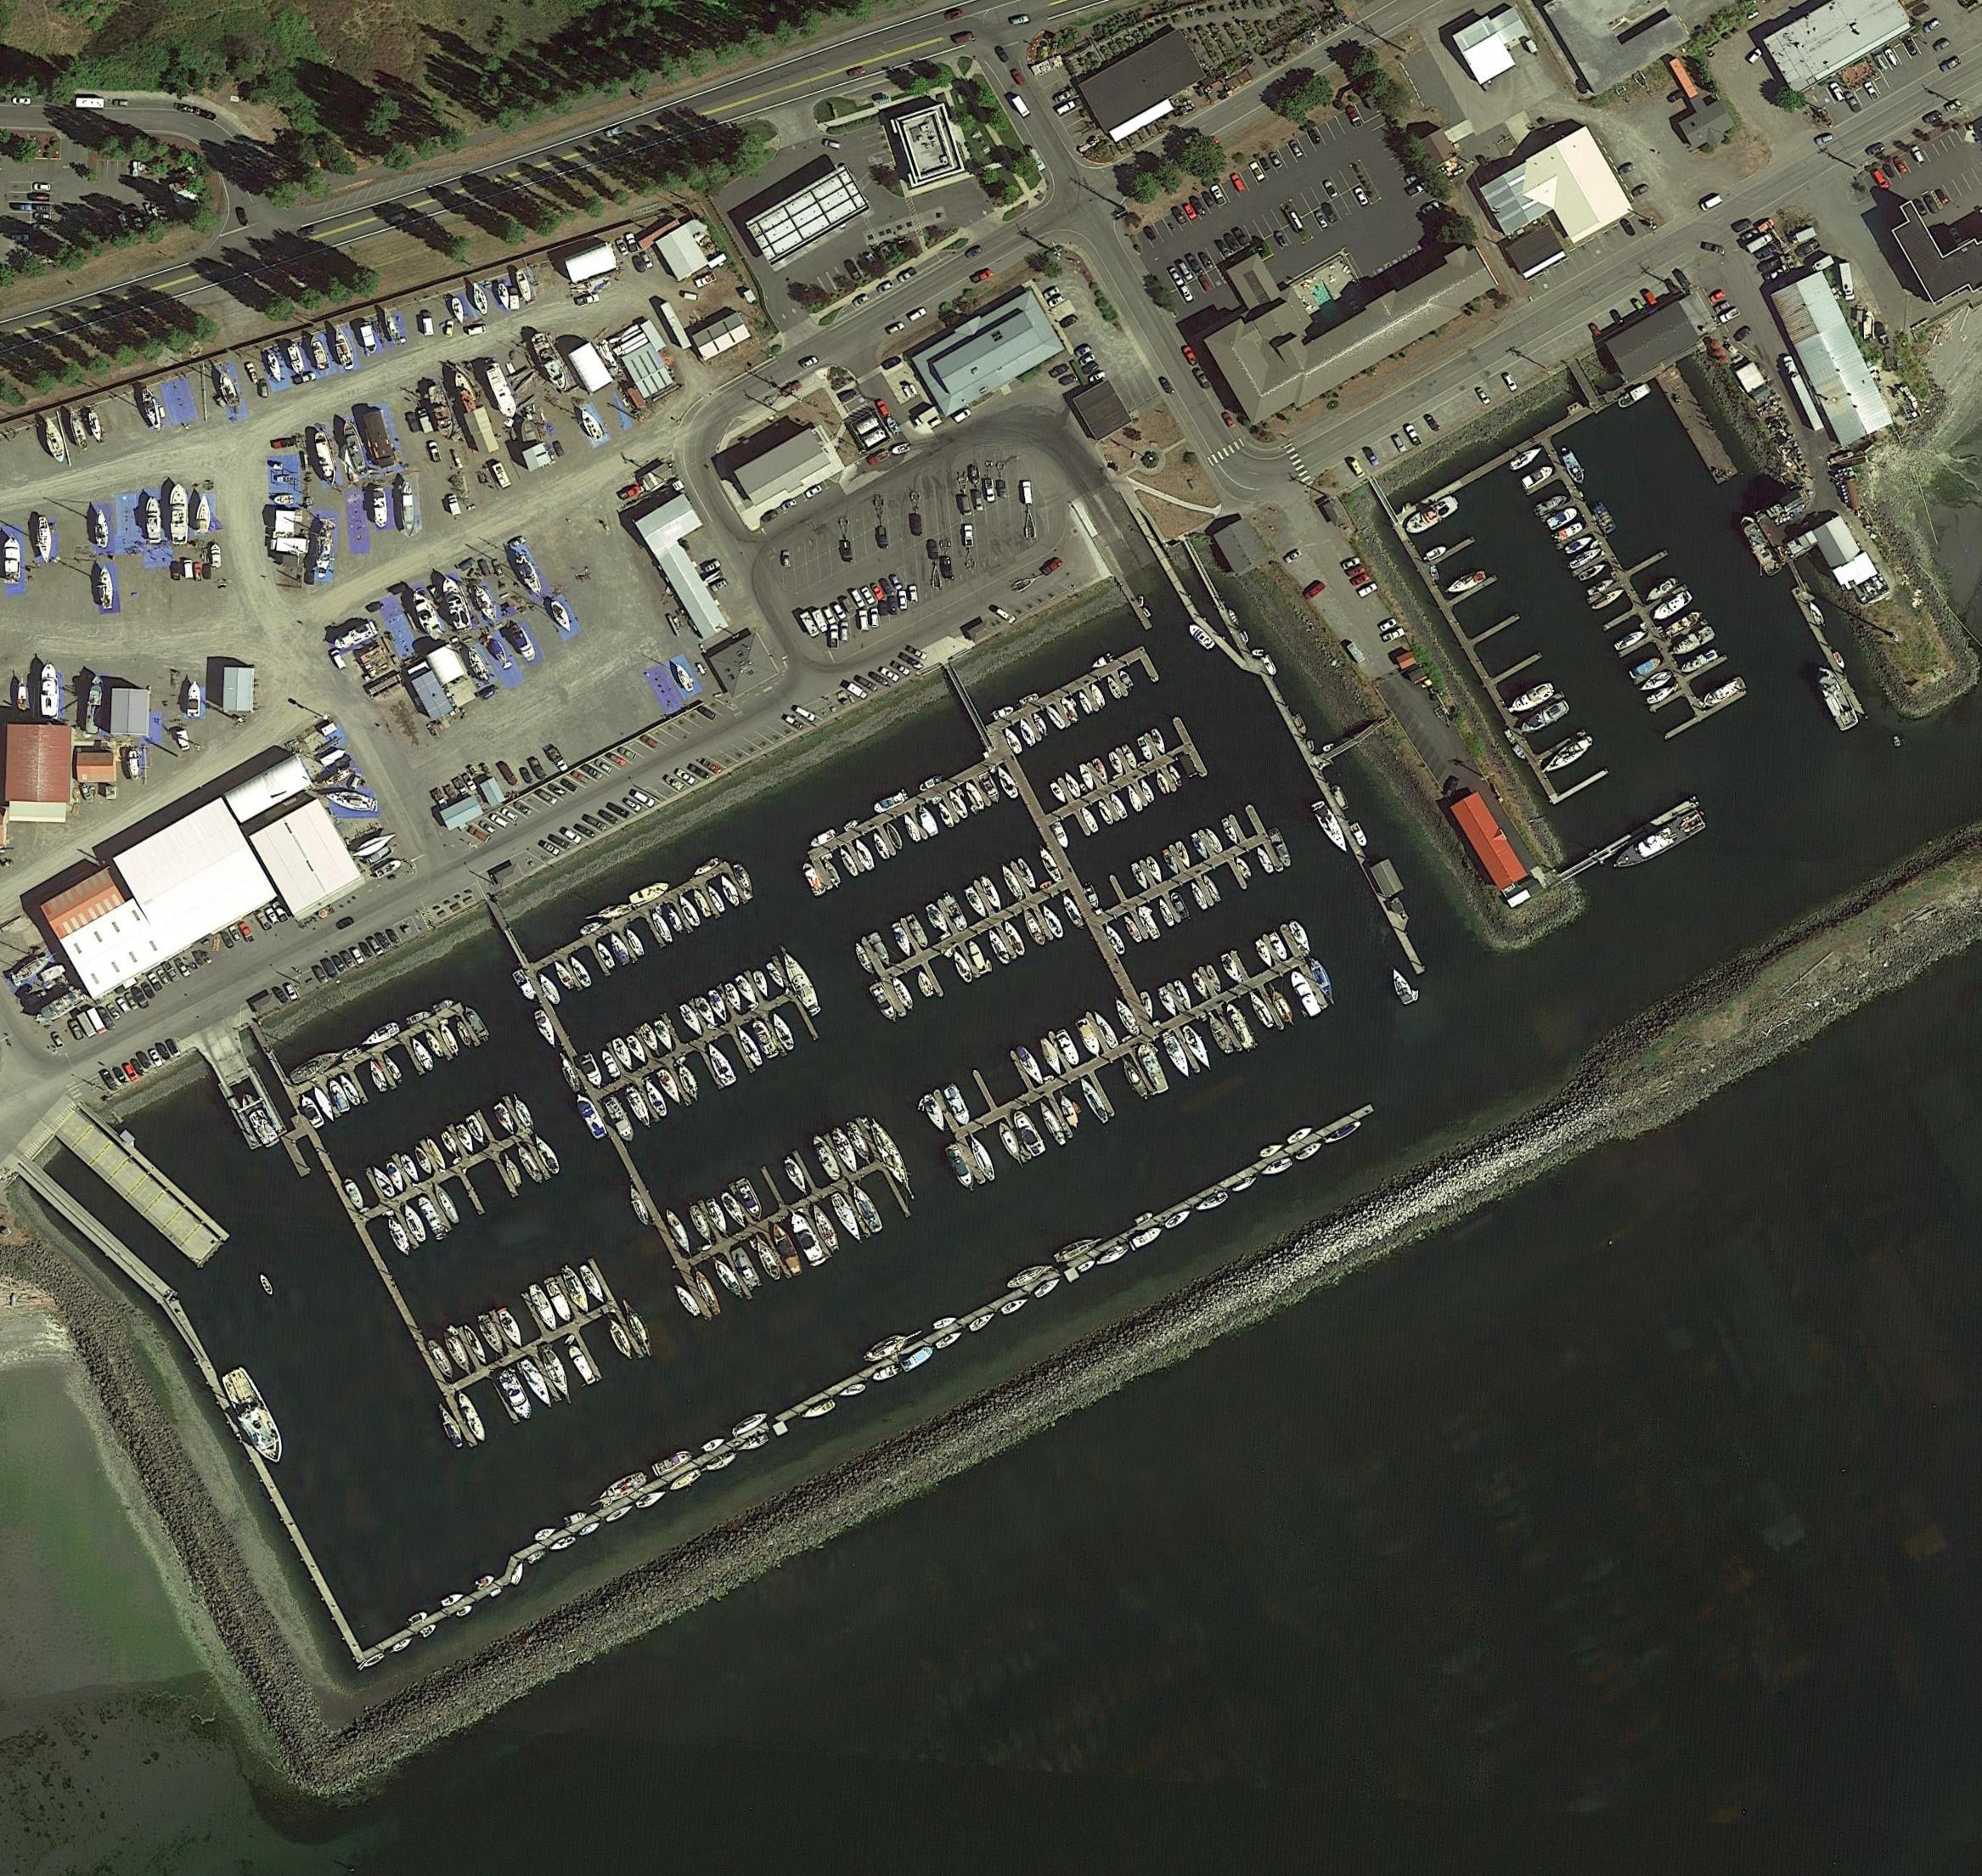harbor: (370, 1098, 1377, 1650), (933, 920, 1331, 1185), (1511, 409, 1751, 744), (1395, 494, 1613, 808), (1263, 663, 1448, 977), (665, 1114, 912, 1319), (578, 954, 820, 1141), (425, 1254, 645, 1440), (859, 846, 1086, 1017), (344, 1093, 554, 1264), (531, 857, 751, 1005), (51, 1102, 235, 1273), (1083, 800, 1287, 952), (806, 751, 1017, 892), (294, 996, 483, 1130), (1035, 718, 1210, 848), (1763, 532, 1874, 719), (1000, 647, 1160, 751), (1564, 793, 1702, 880)
ship: (217, 1365, 291, 1474), (1612, 806, 1710, 878), (866, 1118, 917, 1192), (1809, 663, 1860, 733), (772, 942, 823, 1012), (1737, 511, 1785, 578), (529, 330, 575, 397), (235, 1088, 282, 1151), (287, 1042, 353, 1088), (1402, 492, 1462, 538), (483, 360, 524, 425), (538, 1347, 580, 1409), (619, 1296, 659, 1359), (1539, 733, 1598, 778), (34, 986, 90, 1030), (495, 1368, 538, 1426), (407, 585, 448, 644), (1518, 696, 1571, 741), (829, 1190, 869, 1247), (659, 1204, 700, 1261), (1074, 1072, 1114, 1128), (517, 1356, 557, 1412), (423, 381, 460, 443), (767, 1220, 806, 1278), (9, 947, 60, 989), (596, 1469, 649, 1509), (786, 1208, 825, 1262), (861, 1329, 915, 1368), (439, 575, 474, 635), (848, 1180, 885, 1236), (601, 1093, 640, 1146), (806, 1201, 845, 1254), (571, 1090, 610, 1143), (557, 1266, 596, 1319), (1314, 806, 1352, 859), (1305, 954, 1342, 1009), (525, 1280, 563, 1335), (455, 1389, 490, 1446), (749, 1231, 786, 1284), (943, 1143, 980, 1195), (1053, 1231, 1106, 1268), (1508, 679, 1557, 718), (808, 1132, 845, 1183), (1222, 1000, 1259, 1051), (1134, 1042, 1171, 1093), (1010, 1107, 1047, 1158), (965, 1132, 1002, 1183), (441, 1329, 478, 1381), (1160, 1030, 1196, 1083), (1287, 968, 1323, 1019), (1181, 1021, 1217, 1072), (1035, 1098, 1070, 1150), (340, 418, 370, 478), (310, 430, 340, 488), (351, 827, 400, 862), (425, 1336, 460, 1386), (474, 1312, 510, 1361), (434, 1400, 467, 1451), (543, 1275, 577, 1326), (1649, 589, 1695, 626), (1702, 675, 1747, 712), (622, 1084, 658, 1132), (511, 554, 547, 601), (328, 321, 360, 374), (843, 1118, 876, 1167), (829, 1127, 862, 1176), (321, 785, 376, 815), (993, 1118, 1028, 1164), (603, 1317, 638, 1363), (1668, 626, 1716, 659), (704, 1040, 737, 1088), (1014, 1042, 1047, 1090), (332, 621, 379, 654), (383, 1213, 416, 1261), (691, 1269, 723, 1319), (39, 416, 71, 465), (749, 1017, 783, 1063), (531, 1132, 564, 1178), (138, 384, 168, 435), (83, 675, 108, 737), (1003, 1262, 1051, 1294), (711, 1257, 746, 1299), (518, 416, 547, 469), (622, 1185, 656, 1229), (1204, 1012, 1238, 1056), (651, 1446, 695, 1479), (577, 1262, 610, 1306), (781, 1155, 813, 1201), (554, 1049, 585, 1095), (1111, 994, 1143, 1040), (869, 980, 901, 1026), (1074, 1016, 1106, 1061), (942, 1083, 973, 1128), (471, 582, 503, 628), (460, 1321, 492, 1366), (495, 1306, 527, 1352), (312, 517, 335, 580), (451, 367, 481, 414), (513, 1143, 547, 1185), (1444, 566, 1488, 598), (735, 1180, 767, 1224), (1120, 1056, 1151, 1100), (628, 878, 672, 910), (432, 1181, 462, 1227), (719, 1190, 751, 1232), (686, 1204, 718, 1247), (1245, 989, 1277, 1031), (508, 622, 540, 665), (566, 1344, 598, 1386), (735, 1024, 765, 1068), (1019, 906, 1049, 950), (1092, 1007, 1121, 1051), (1037, 1035, 1067, 1079), (920, 1091, 950, 1135), (531, 1007, 561, 1051), (213, 367, 243, 411), (1386, 964, 1416, 1009), (65, 404, 92, 453), (670, 1282, 704, 1321), (1268, 825, 1296, 871), (1506, 443, 1546, 474), (462, 644, 494, 684), (642, 1077, 672, 1120), (656, 1067, 686, 1109), (674, 1060, 704, 1102), (769, 1010, 799, 1053), (577, 1049, 607, 1091), (1035, 843, 1065, 885), (360, 1021, 402, 1051), (400, 1202, 430, 1245), (169, 483, 189, 547), (1665, 608, 1705, 638), (677, 1001, 707, 1042), (996, 862, 1026, 903), (1053, 1028, 1083, 1068), (730, 1409, 771, 1439), (416, 1194, 444, 1236), (1615, 381, 1654, 411), (608, 1035, 638, 1074), (577, 404, 607, 443), (547, 598, 577, 636), (899, 1344, 938, 1373), (490, 1100, 520, 1139), (460, 1003, 490, 1042), (39, 663, 60, 718), (705, 987, 734, 1028), (704, 1195, 732, 1236), (310, 1084, 339, 1125), (409, 1033, 437, 1074), (1323, 1120, 1365, 1146), (143, 494, 164, 547), (1559, 450, 1589, 487), (534, 970, 564, 1007), (1589, 499, 1619, 536), (1589, 585, 1628, 614), (1268, 987, 1296, 1026), (986, 927, 1014, 966), (977, 875, 1005, 913), (298, 1091, 326, 1130), (1679, 649, 1719, 675), (400, 481, 418, 541), (1643, 577, 1680, 605), (1613, 626, 1650, 654), (651, 1017, 679, 1054), (1039, 903, 1067, 940), (993, 763, 1021, 800), (716, 873, 744, 910), (568, 952, 596, 989), (511, 968, 540, 1005), (379, 305, 404, 347), (675, 892, 704, 929), (647, 908, 675, 945), (1129, 1224, 1166, 1252), (801, 860, 827, 899), (1002, 920, 1028, 959), (943, 894, 970, 933), (890, 973, 917, 1012), (868, 931, 894, 970), (799, 1396, 838, 1423), (607, 929, 633, 968), (370, 1164, 397, 1202), (307, 333, 332, 374), (734, 973, 762, 1009), (924, 901, 952, 936), (730, 860, 758, 896), (1095, 1241, 1130, 1269), (1638, 668, 1675, 695), (1568, 545, 1605, 571), (852, 836, 878, 873), (1532, 492, 1569, 518), (1287, 919, 1314, 956), (949, 949, 975, 986), (965, 885, 991, 922), (905, 913, 931, 950), (365, 1058, 391, 1095), (337, 1072, 363, 1109), (326, 1077, 353, 1114), (702, 1449, 739, 1476), (510, 1093, 536, 1130), (1136, 905, 1162, 942), (592, 901, 635, 924), (467, 279, 492, 317), (511, 266, 536, 305), (35, 515, 55, 564), (1187, 621, 1217, 652), (1546, 504, 1580, 532), (1645, 681, 1680, 707), (1520, 464, 1555, 490), (693, 994, 719, 1030), (624, 1031, 651, 1067), (1218, 950, 1245, 986), (915, 804, 942, 839), (1056, 1093, 1083, 1128), (550, 957, 577, 993), (668, 1467, 704, 1493), (464, 1113, 490, 1148), (633, 1486, 668, 1513), (1171, 977, 1196, 1014), (966, 938, 991, 975), (1060, 892, 1084, 929), (852, 940, 876, 977), (384, 1158, 409, 1195), (425, 1135, 450, 1173), (483, 636, 511, 668), (873, 790, 906, 816), (1261, 1155, 1294, 1181), (1155, 986, 1181, 1019), (977, 770, 1003, 804), (890, 926, 917, 959), (638, 1021, 663, 1056), (381, 1051, 406, 1086), (4, 534, 21, 584), (689, 885, 714, 920), (344, 1178, 369, 1213), (672, 661, 697, 696), (1629, 656, 1663, 681), (899, 811, 924, 845), (1252, 938, 1277, 971), (1196, 1190, 1229, 1215), (1014, 857, 1039, 890), (963, 779, 987, 813), (421, 1028, 446, 1061), (737, 1432, 771, 1456), (622, 926, 647, 959), (501, 1155, 525, 1188), (455, 1123, 480, 1157), (1104, 924, 1129, 957), (838, 845, 861, 880), (97, 564, 115, 610), (358, 321, 381, 356), (286, 344, 309, 379), (1033, 1275, 1063, 1301), (764, 961, 788, 993), (86, 409, 108, 446), (1000, 1294, 1032, 1319), (399, 1153, 423, 1185), (600, 1047, 622, 1081), (1203, 963, 1226, 996), (947, 788, 970, 822), (437, 1023, 460, 1056), (413, 1144, 436, 1178), (1294, 1139, 1324, 1164), (935, 1328, 965, 1352), (1554, 520, 1585, 543), (723, 982, 746, 1014), (869, 830, 892, 862), (883, 820, 906, 852), (1162, 1208, 1194, 1231), (1268, 931, 1291, 963), (1190, 970, 1213, 1001), (1090, 756, 1113, 788), (1016, 718, 1039, 749), (1002, 725, 1025, 756), (935, 800, 957, 832), (603, 1502, 635, 1525), (1143, 853, 1166, 885), (1188, 880, 1211, 912), (1121, 913, 1144, 945), (1129, 860, 1151, 892), (1201, 873, 1224, 905), (1254, 845, 1277, 876), (93, 508, 111, 548), (194, 494, 212, 534), (265, 353, 286, 386), (372, 487, 388, 531), (1578, 561, 1608, 584), (1564, 532, 1594, 555), (1106, 749, 1129, 779), (1285, 1123, 1315, 1146), (374, 857, 404, 880), (691, 857, 721, 880), (594, 942, 617, 971), (968, 1310, 998, 1333), (439, 1130, 462, 1160), (1049, 822, 1072, 852), (1155, 897, 1178, 927), (1188, 832, 1211, 862), (1077, 762, 1099, 793), (1062, 769, 1083, 800), (1174, 839, 1196, 871), (1203, 825, 1224, 857), (1220, 816, 1241, 848), (1044, 704, 1067, 732), (915, 970, 938, 998), (871, 1363, 899, 1386), (705, 885, 728, 913), (1079, 806, 1102, 834), (1123, 785, 1146, 813), (822, 857, 843, 887), (808, 829, 838, 850), (751, 968, 772, 998), (1257, 1139, 1287, 1160), (1137, 991, 1159, 1021), (448, 296, 469, 326), (453, 1019, 474, 1049), (1107, 792, 1129, 822), (1330, 783, 1351, 813), (1169, 890, 1190, 920), (1160, 848, 1181, 878), (185, 682, 203, 718), (1587, 577, 1615, 598), (1095, 799, 1116, 827), (1871, 319, 1892, 347), (1349, 822, 1370, 850), (495, 282, 515, 312), (1121, 742, 1141, 772), (1806, 599, 1827, 626), (838, 1382, 869, 1400), (665, 906, 686, 933), (1289, 711, 1310, 737), (256, 1271, 277, 1298), (1083, 883, 1104, 910), (1233, 855, 1254, 882), (16, 674, 30, 712), (550, 1534, 578, 1553), (407, 1009, 436, 1028), (1153, 769, 1173, 797), (1150, 728, 1169, 756), (1137, 778, 1157, 806), (917, 774, 943, 793), (1088, 682, 1107, 709), (1060, 695, 1079, 721), (439, 1590, 466, 1610), (563, 1509, 589, 1529), (577, 1520, 603, 1539), (578, 919, 605, 938), (127, 748, 141, 783), (1049, 781, 1069, 806), (1090, 652, 1114, 672), (1106, 675, 1125, 700), (1076, 691, 1095, 716), (1032, 712, 1051, 737), (702, 1435, 726, 1455), (361, 1650, 386, 1670), (533, 1525, 557, 1545), (1136, 737, 1155, 762), (1261, 652, 1278, 679), (1427, 543, 1449, 562), (474, 1573, 497, 1592), (991, 704, 1016, 721), (510, 1562, 527, 1587), (933, 1314, 957, 1331), (1167, 763, 1185, 788), (208, 543, 224, 569), (391, 1636, 414, 1654), (407, 1610, 430, 1627), (1134, 1210, 1155, 1227), (1118, 670, 1136, 691), (342, 1046, 363, 1063), (527, 1548, 548, 1566), (1077, 1257, 1099, 1275), (434, 998, 455, 1016), (1019, 691, 1040, 709), (1226, 607, 1243, 628), (79, 783, 95, 806), (885, 414, 901, 437), (843, 816, 862, 834), (455, 1603, 474, 1620), (1511, 744, 1529, 763), (890, 441, 912, 457), (1832, 651, 1848, 672), (1864, 310, 1874, 342), (420, 1622, 439, 1638), (968, 464, 980, 487), (273, 494, 296, 506), (1504, 726, 1518, 746), (1070, 1098, 1084, 1114), (1310, 799, 1324, 813), (563, 1333, 577, 1347), (1238, 629, 1250, 645), (1428, 564, 1439, 582), (1890, 735, 1903, 748), (1305, 741, 1315, 753), (1252, 649, 1264, 658)
